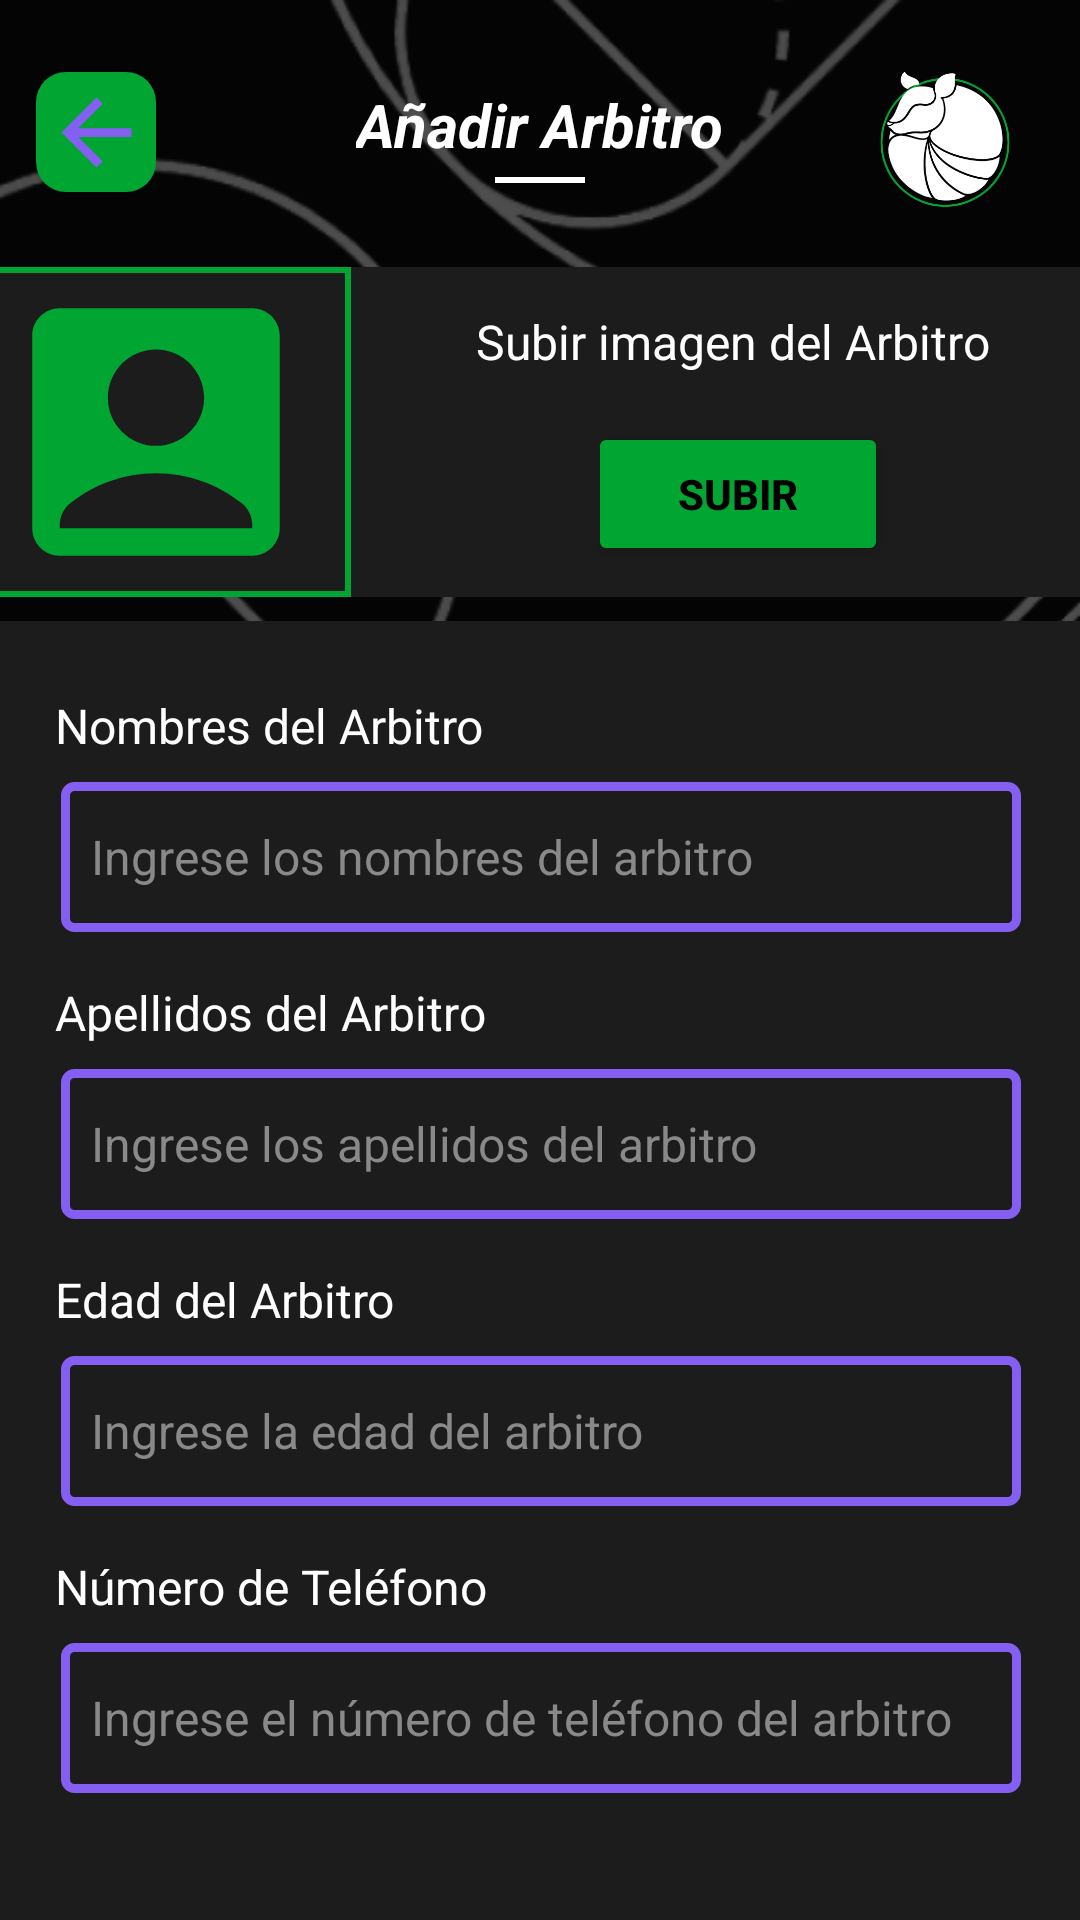

Locate icon controls on the screen. Image size 1080*1920, boxes as (x1, y1, x2, y2).
dillo: (880, 72, 1010, 207)
